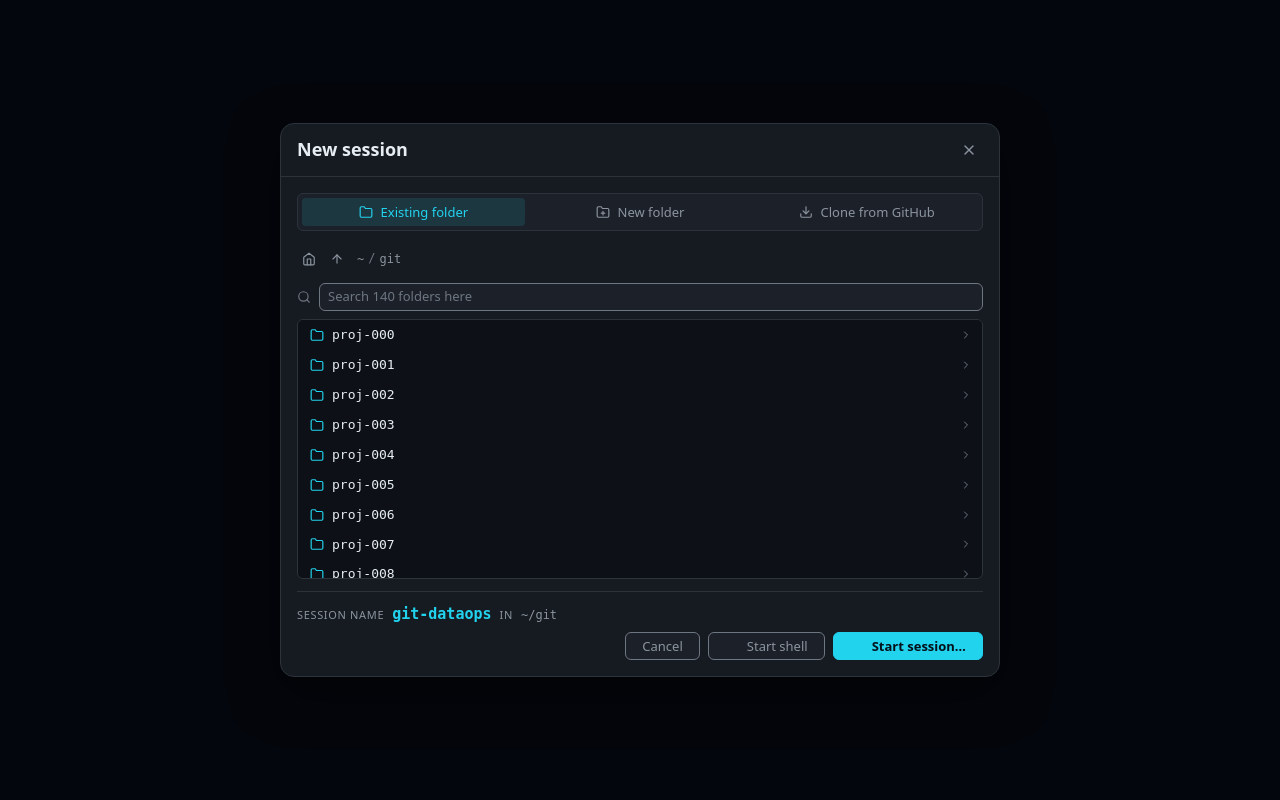
Test case: NewSessionDialog folder search › says so when nothing matches, rather than looking like an empty folder
Type "nothing-like-this" into the field named "Search folders in this directory" at coordinates (651, 297), box [319, 283, 983, 311]
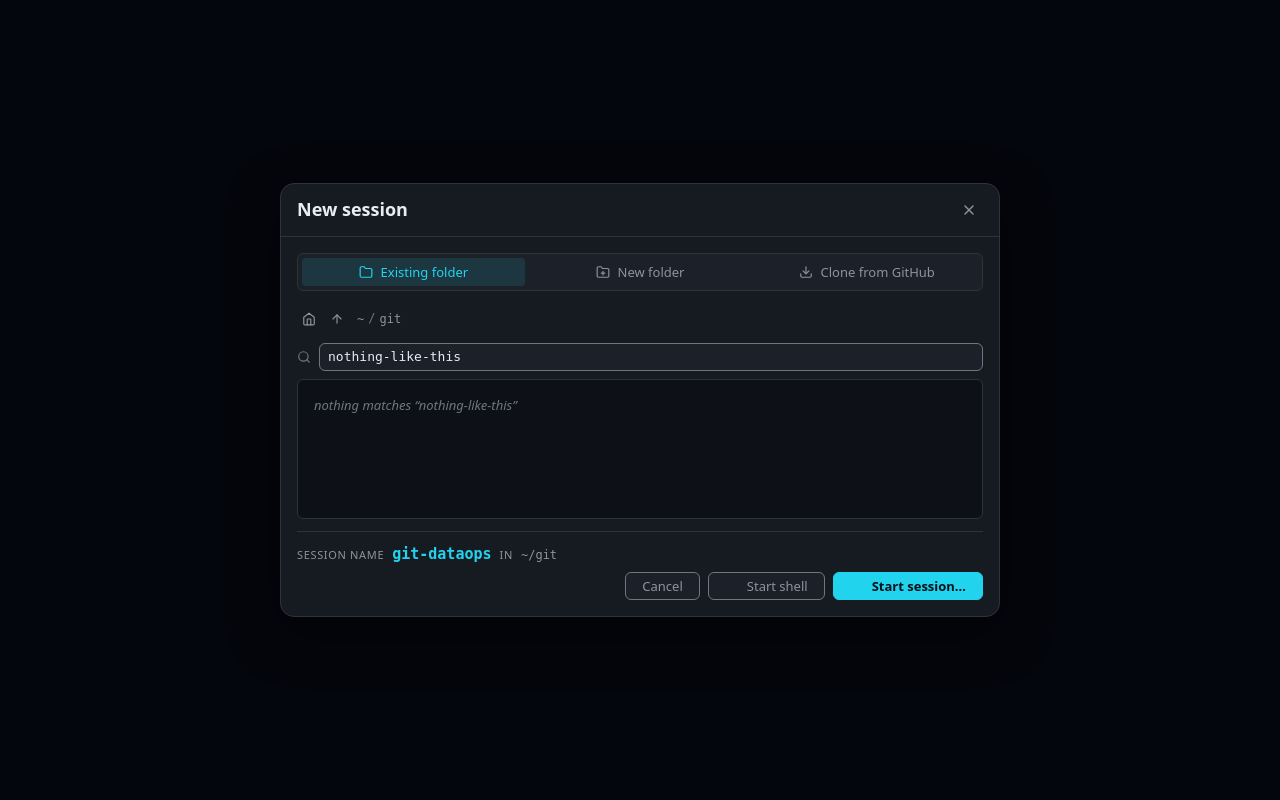
Expected: the text "nothing matches" is shown, [314, 396, 517, 414]
